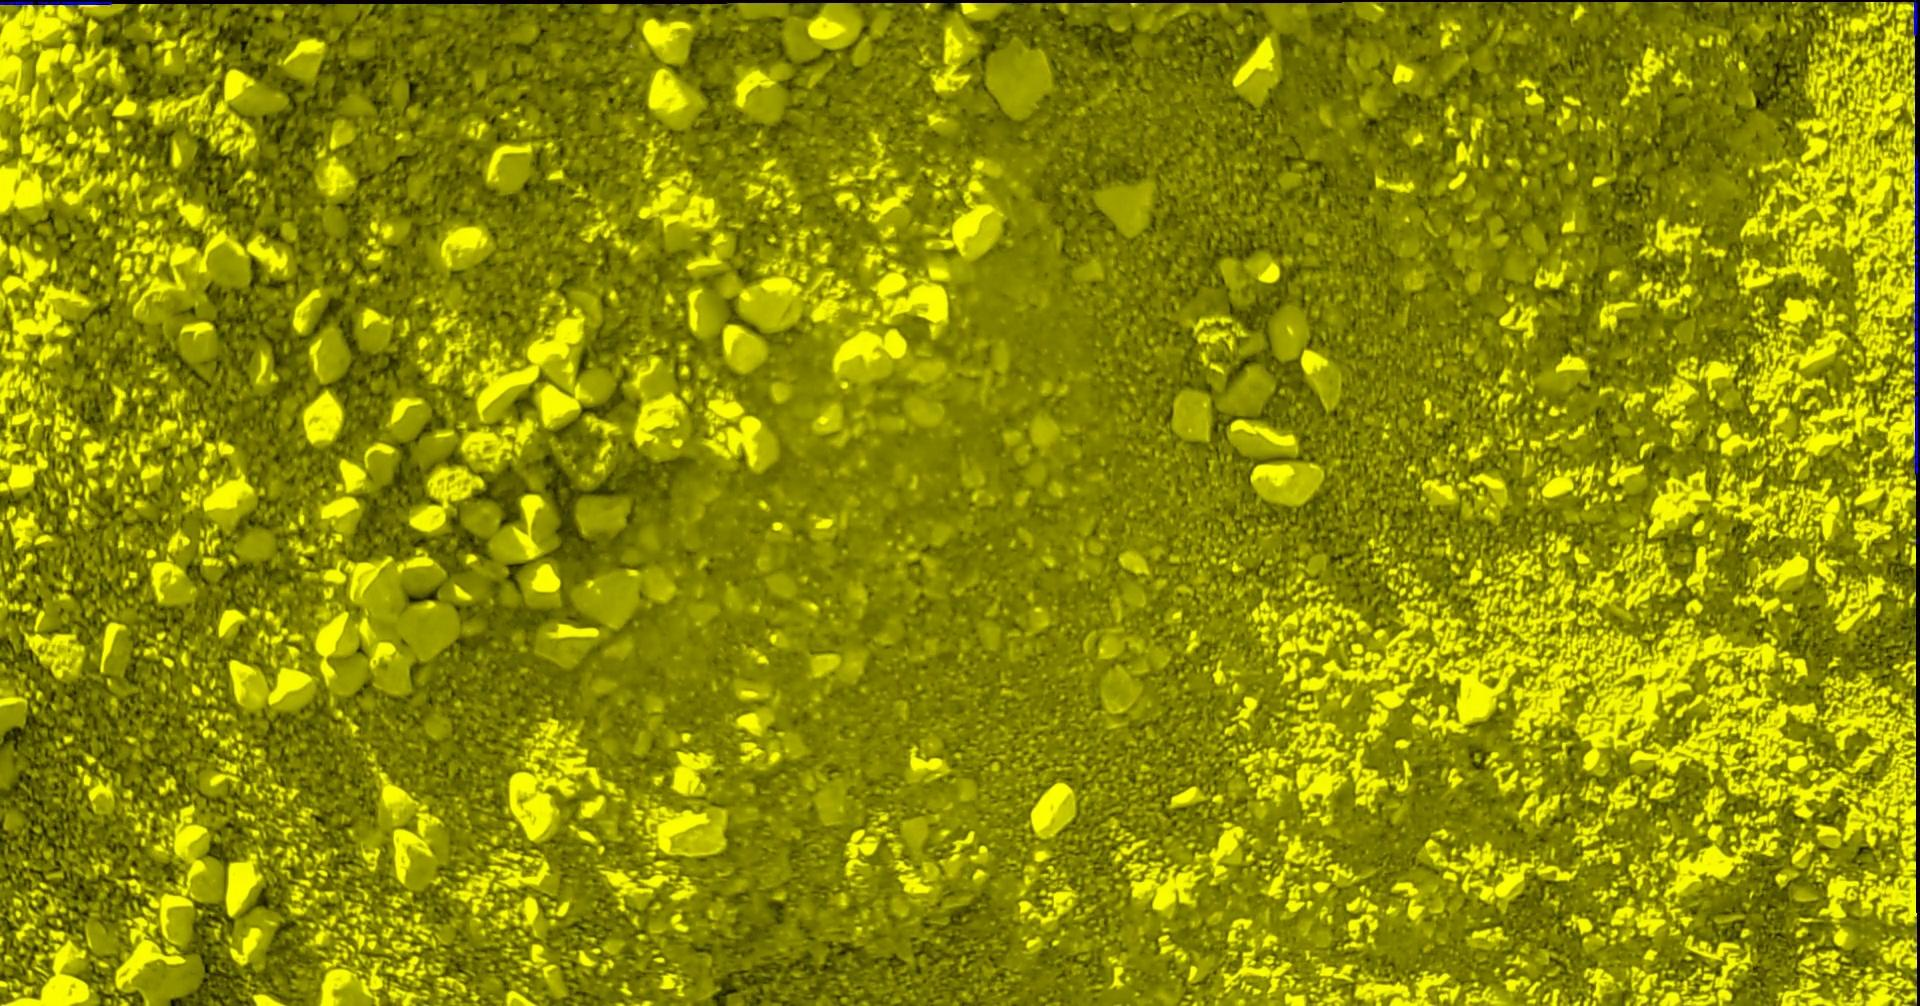ant: (0, 0, 110, 5), (1912, 0, 1919, 36)
